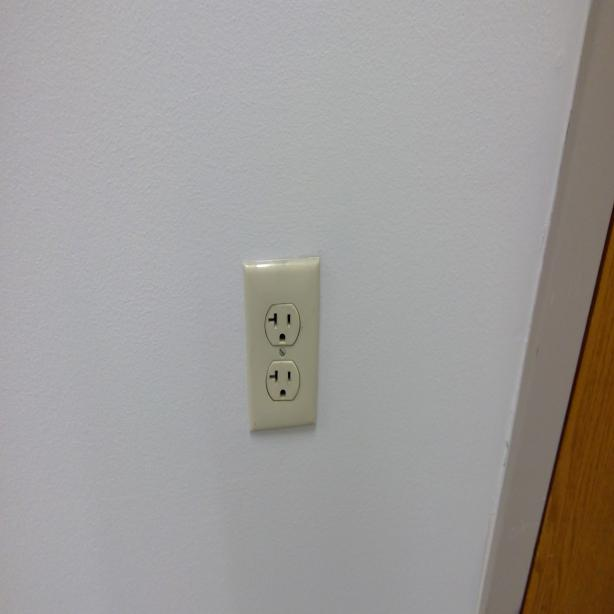typeb: (262, 307, 300, 347), (264, 364, 296, 402)
